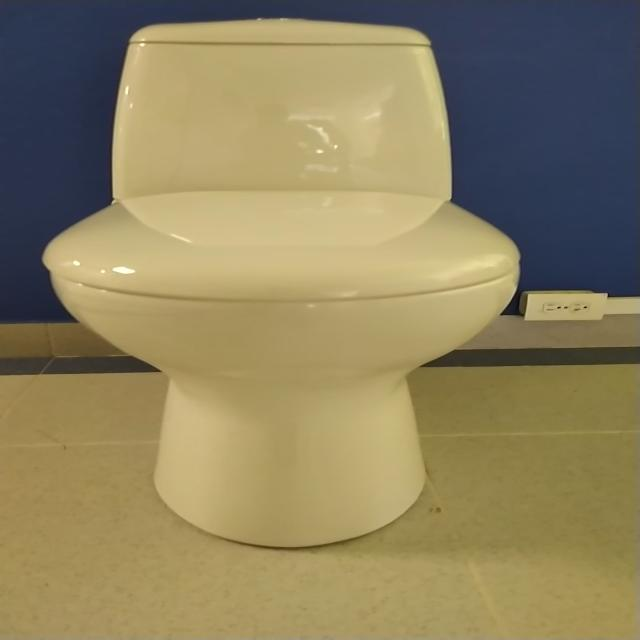toilet: (41, 18, 521, 548)
